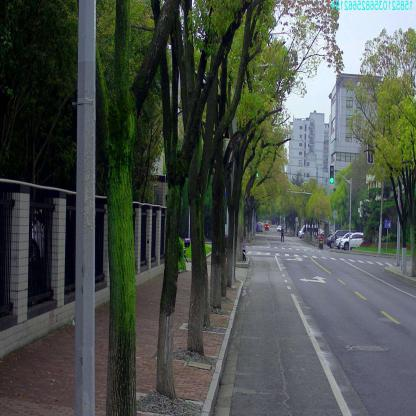traffic-light: (330, 164, 334, 183), (256, 168, 259, 178)
